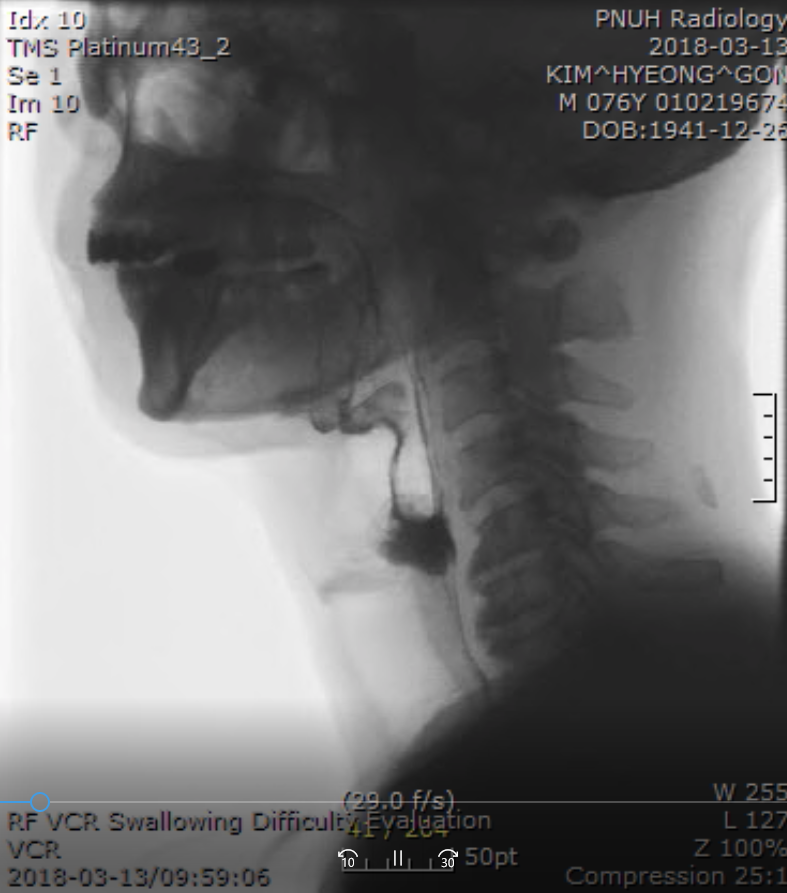dros: (375, 444, 442, 522)
food: (365, 492, 460, 580)
uros: (328, 360, 397, 438)
